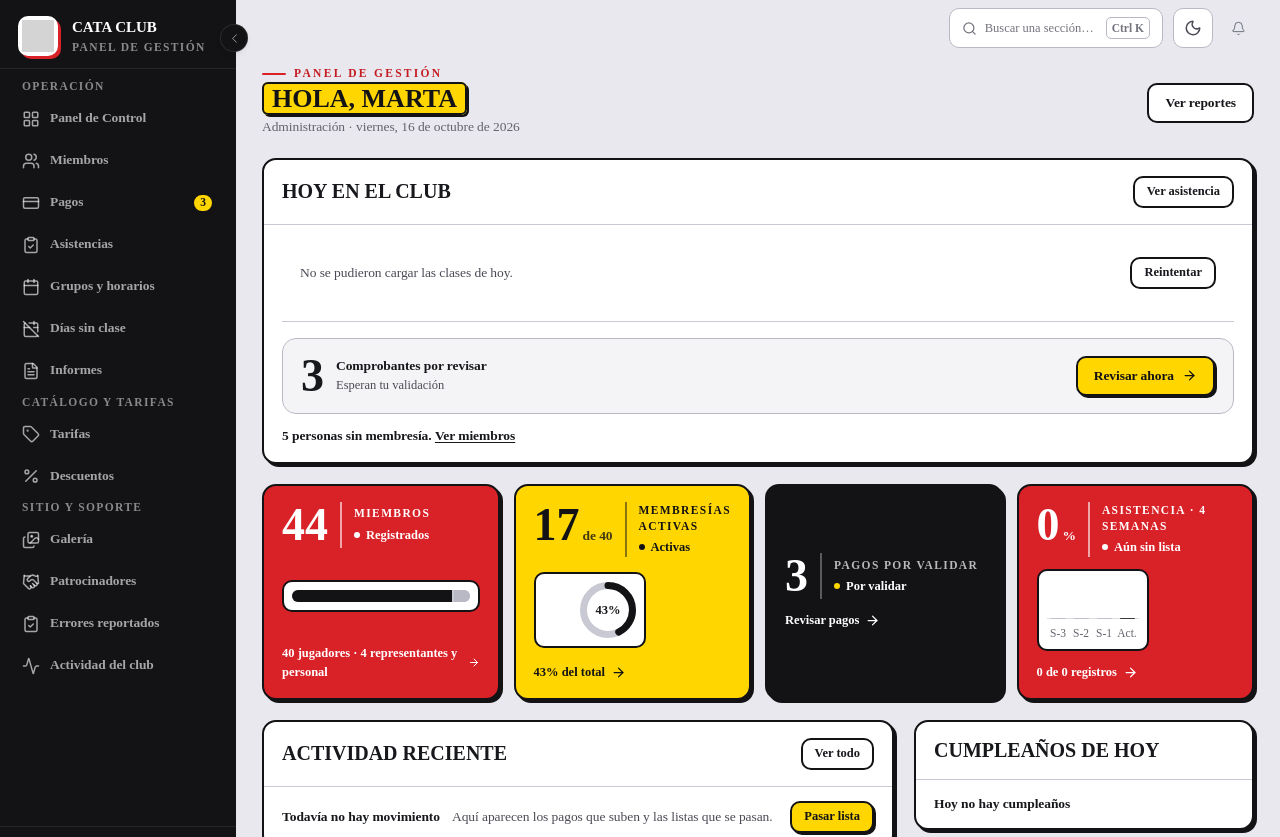
Test: admin dashboard — hoy en el club › tells the admin when today's timetable could not load, and retries
The image size is (1280, 837).
expect the text "No se pudieron cargar las clases de hoy." is shown: met, box [300,264,513,280]
Click the button "Reintentar".
click(1173, 273)  # box [1130,257,1216,289]
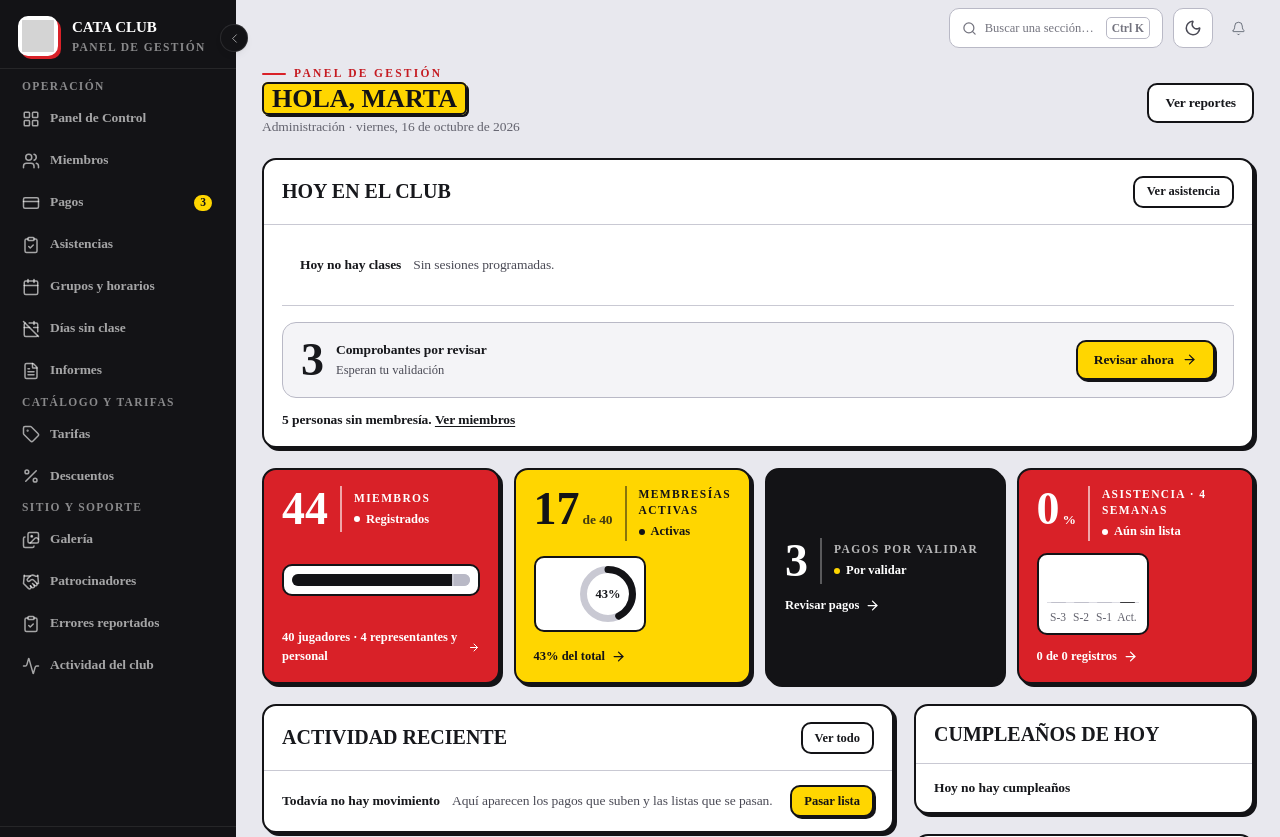
expect the text "Hoy no hay clases" is shown: met, box [300,255,401,275]
